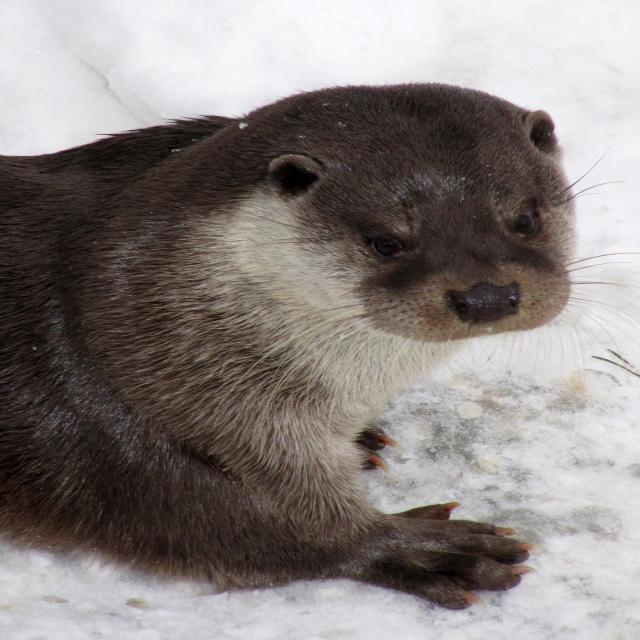otter: (2, 86, 580, 610)
